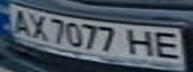0: (63, 19, 81, 47)
7: (96, 24, 121, 53), (78, 21, 100, 51), (45, 16, 66, 45)
A: (6, 6, 33, 36)
E: (148, 29, 187, 60)
H: (124, 26, 160, 57)
X: (24, 11, 51, 40)
